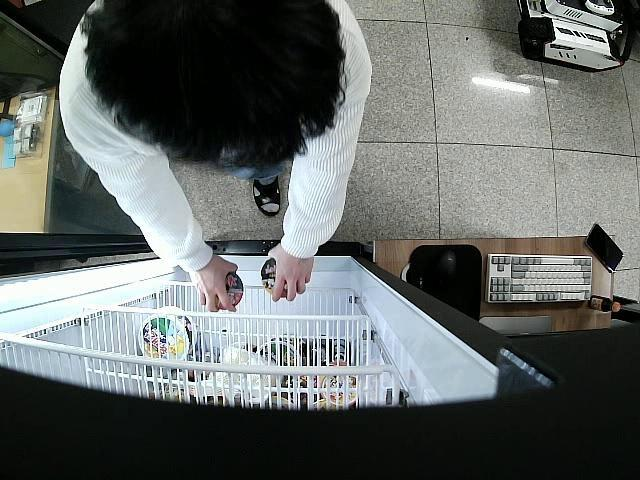08_buldak_S: (260, 260, 288, 298), (215, 272, 242, 309)
